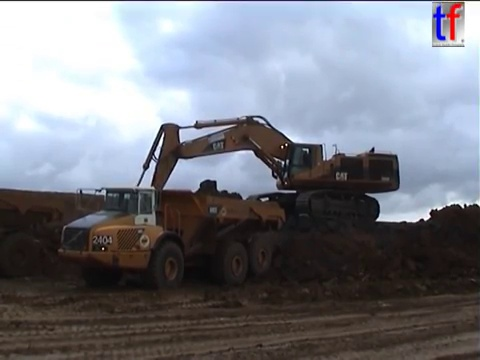excavator: (116, 112, 404, 245)
truck: (55, 179, 290, 292), (1, 184, 148, 282)
